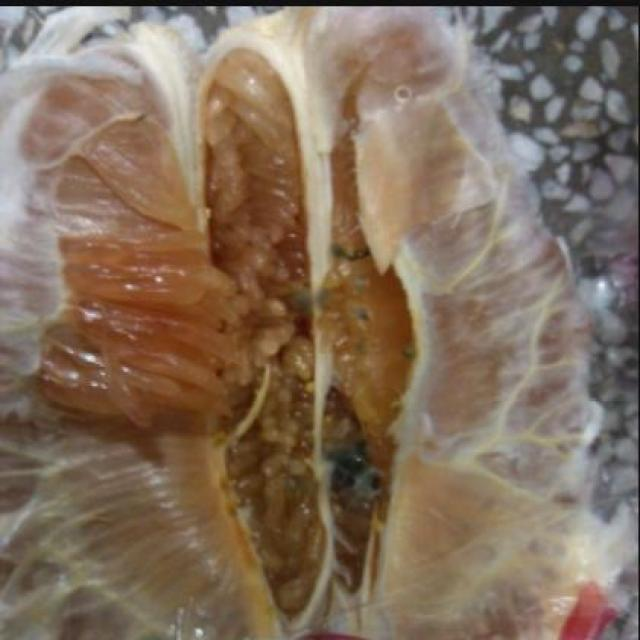Wet Waste: (2, 1, 611, 638)
